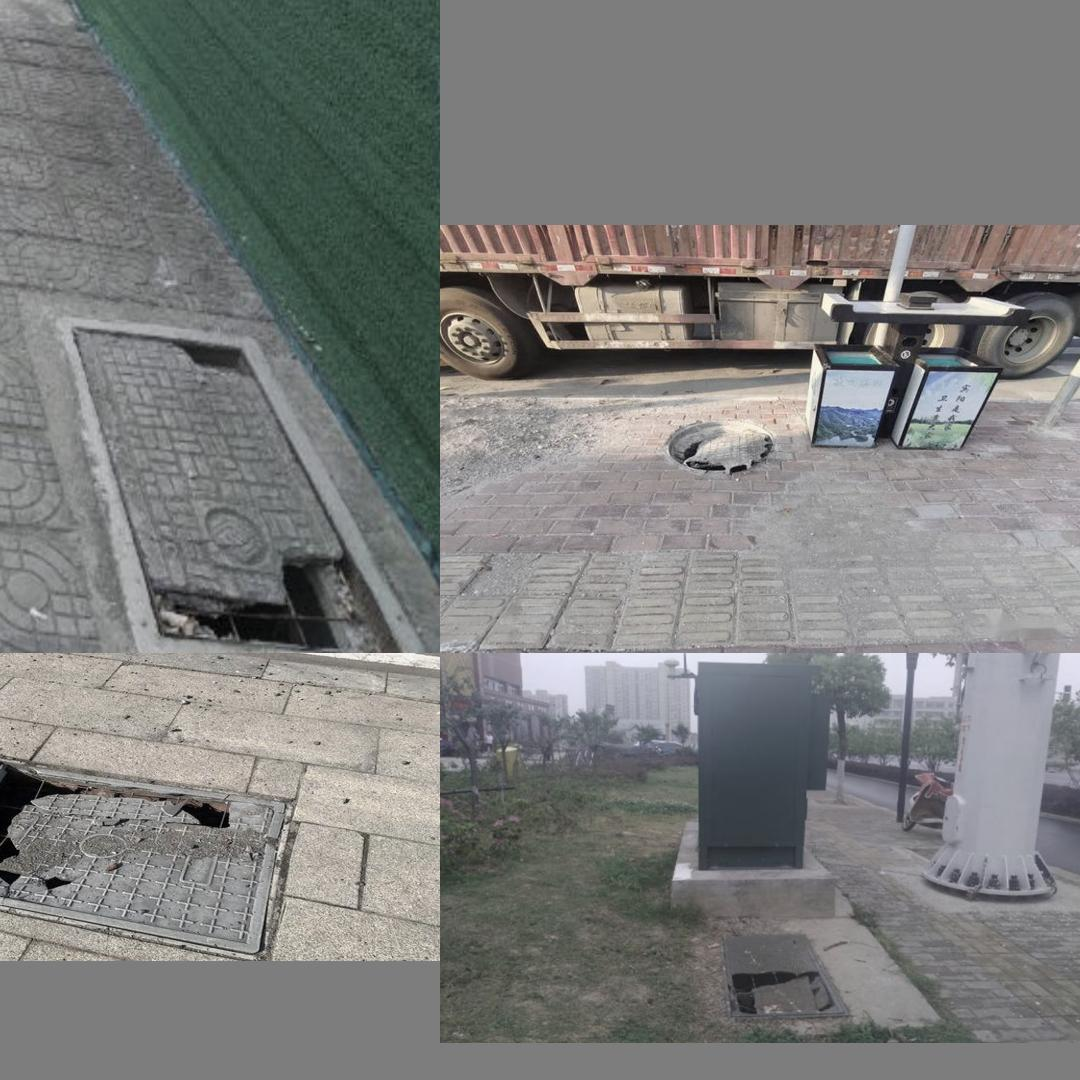broke: (55, 316, 428, 653), (0, 747, 287, 960), (652, 406, 792, 494), (719, 931, 851, 1021)
